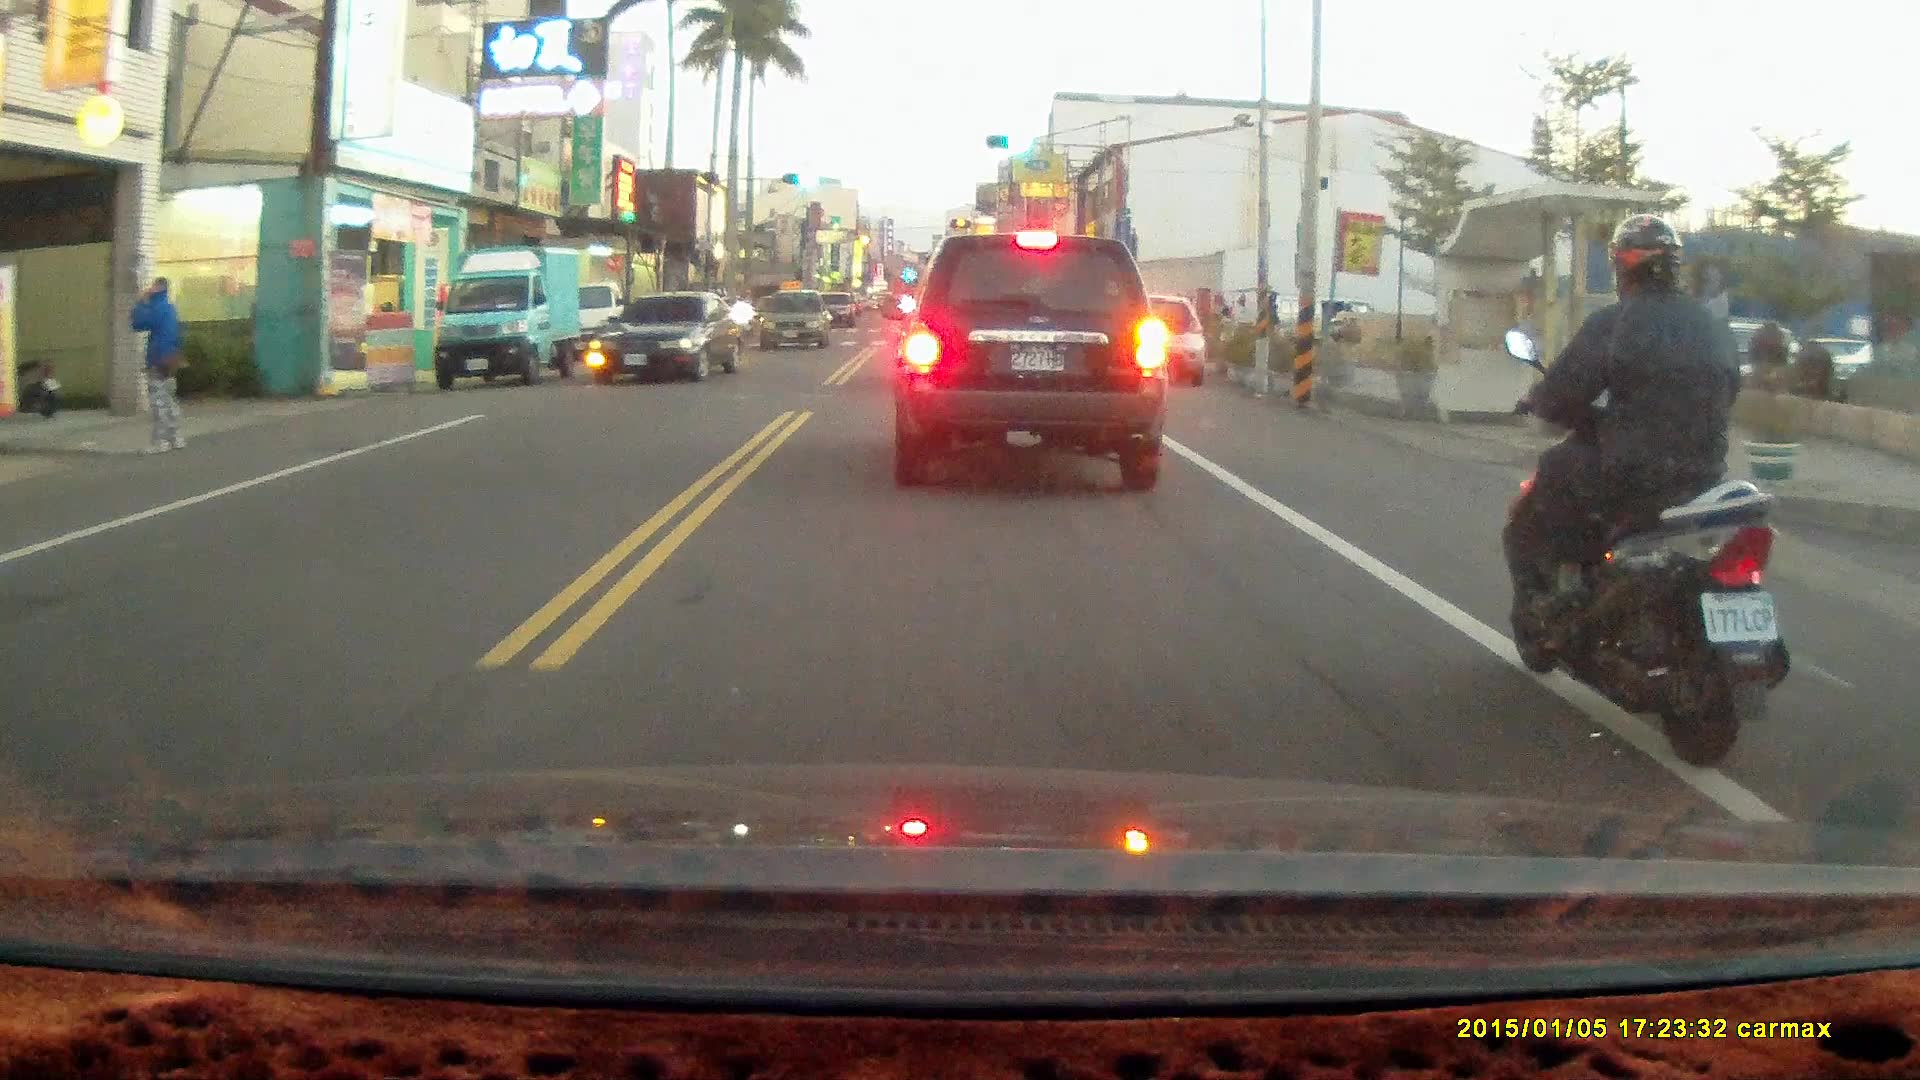pedestrian: (123, 276, 186, 457)
rider: (1498, 212, 1790, 773), (732, 289, 758, 344)
vehicle: (886, 235, 1169, 497), (431, 254, 576, 401), (589, 293, 756, 387), (1105, 294, 1209, 390), (757, 293, 831, 353)
